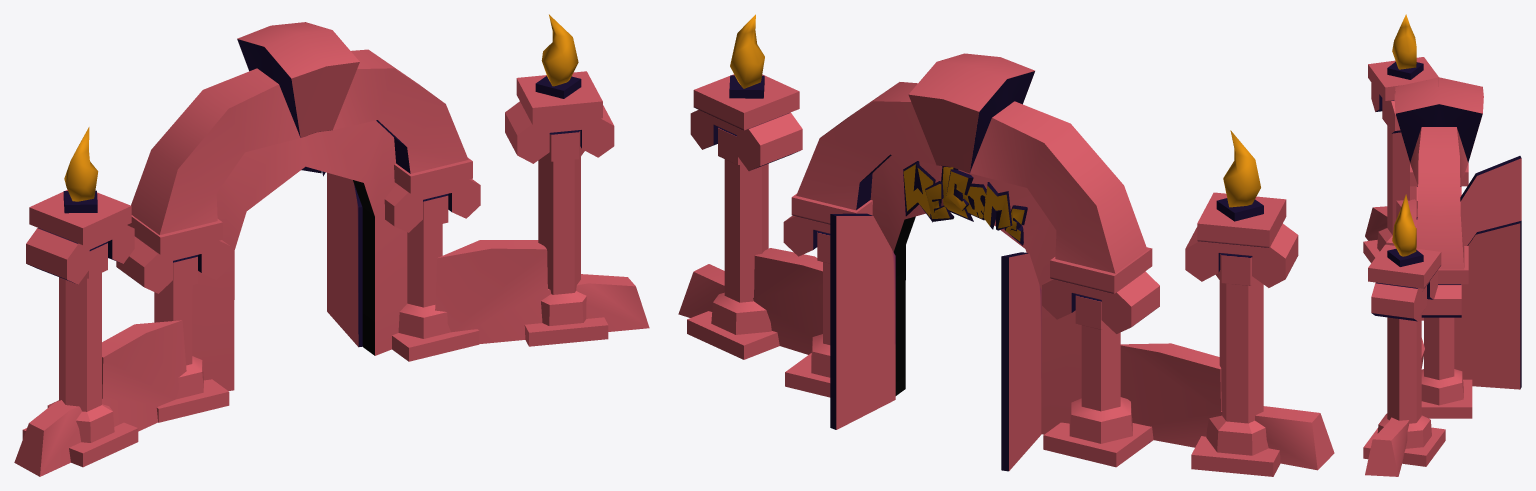
Rendered from welcome_gate.fbx.
The picture shows the model from 3 angles, left to right: view 1: azimuth 30°, elevation 25°; view 2: azimuth 150°, elevation 25°; view 3: azimuth 270°, elevation 25°; orthographic projection. The views are drawn at different scales.
Visible parts, largest first — view 1: Pillars; view 2: Pillars; view 3: Pillars.
Part boxes in pixels (<box>): Pillars: <box>14,14,649,476</box>; Pillars: <box>678,14,1334,476</box>; Pillars: <box>1363,14,1521,476</box>.
Bounding box in the file's own units: 16.96 × 4.68 × 8.76.
1 material, 1 textured.
